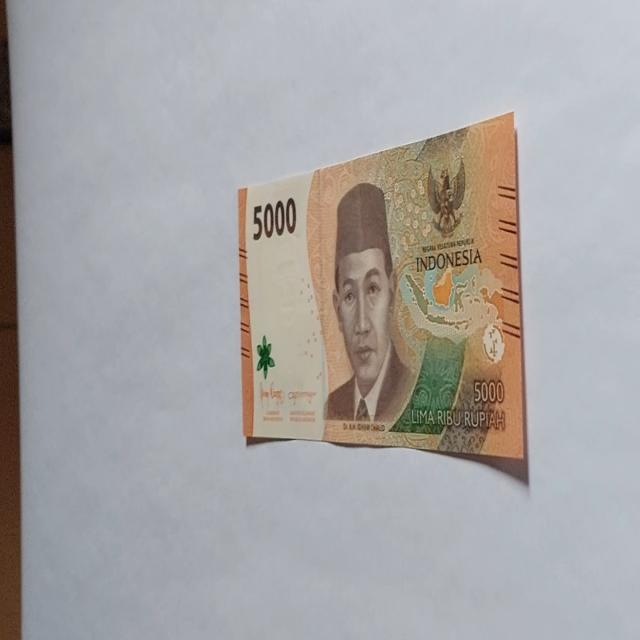lima ribu rupiah: (236, 110, 528, 484), (322, 180, 415, 427)
